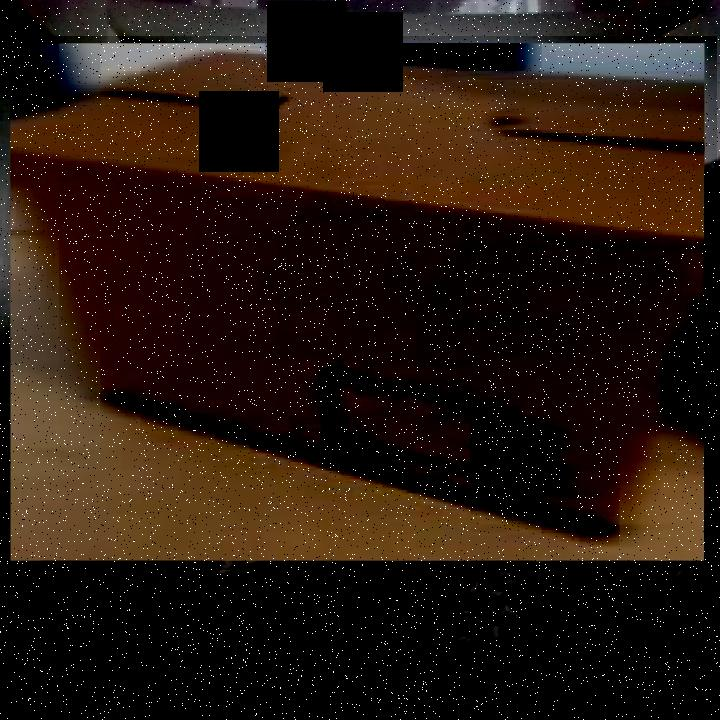box: (0, 36, 717, 570)
